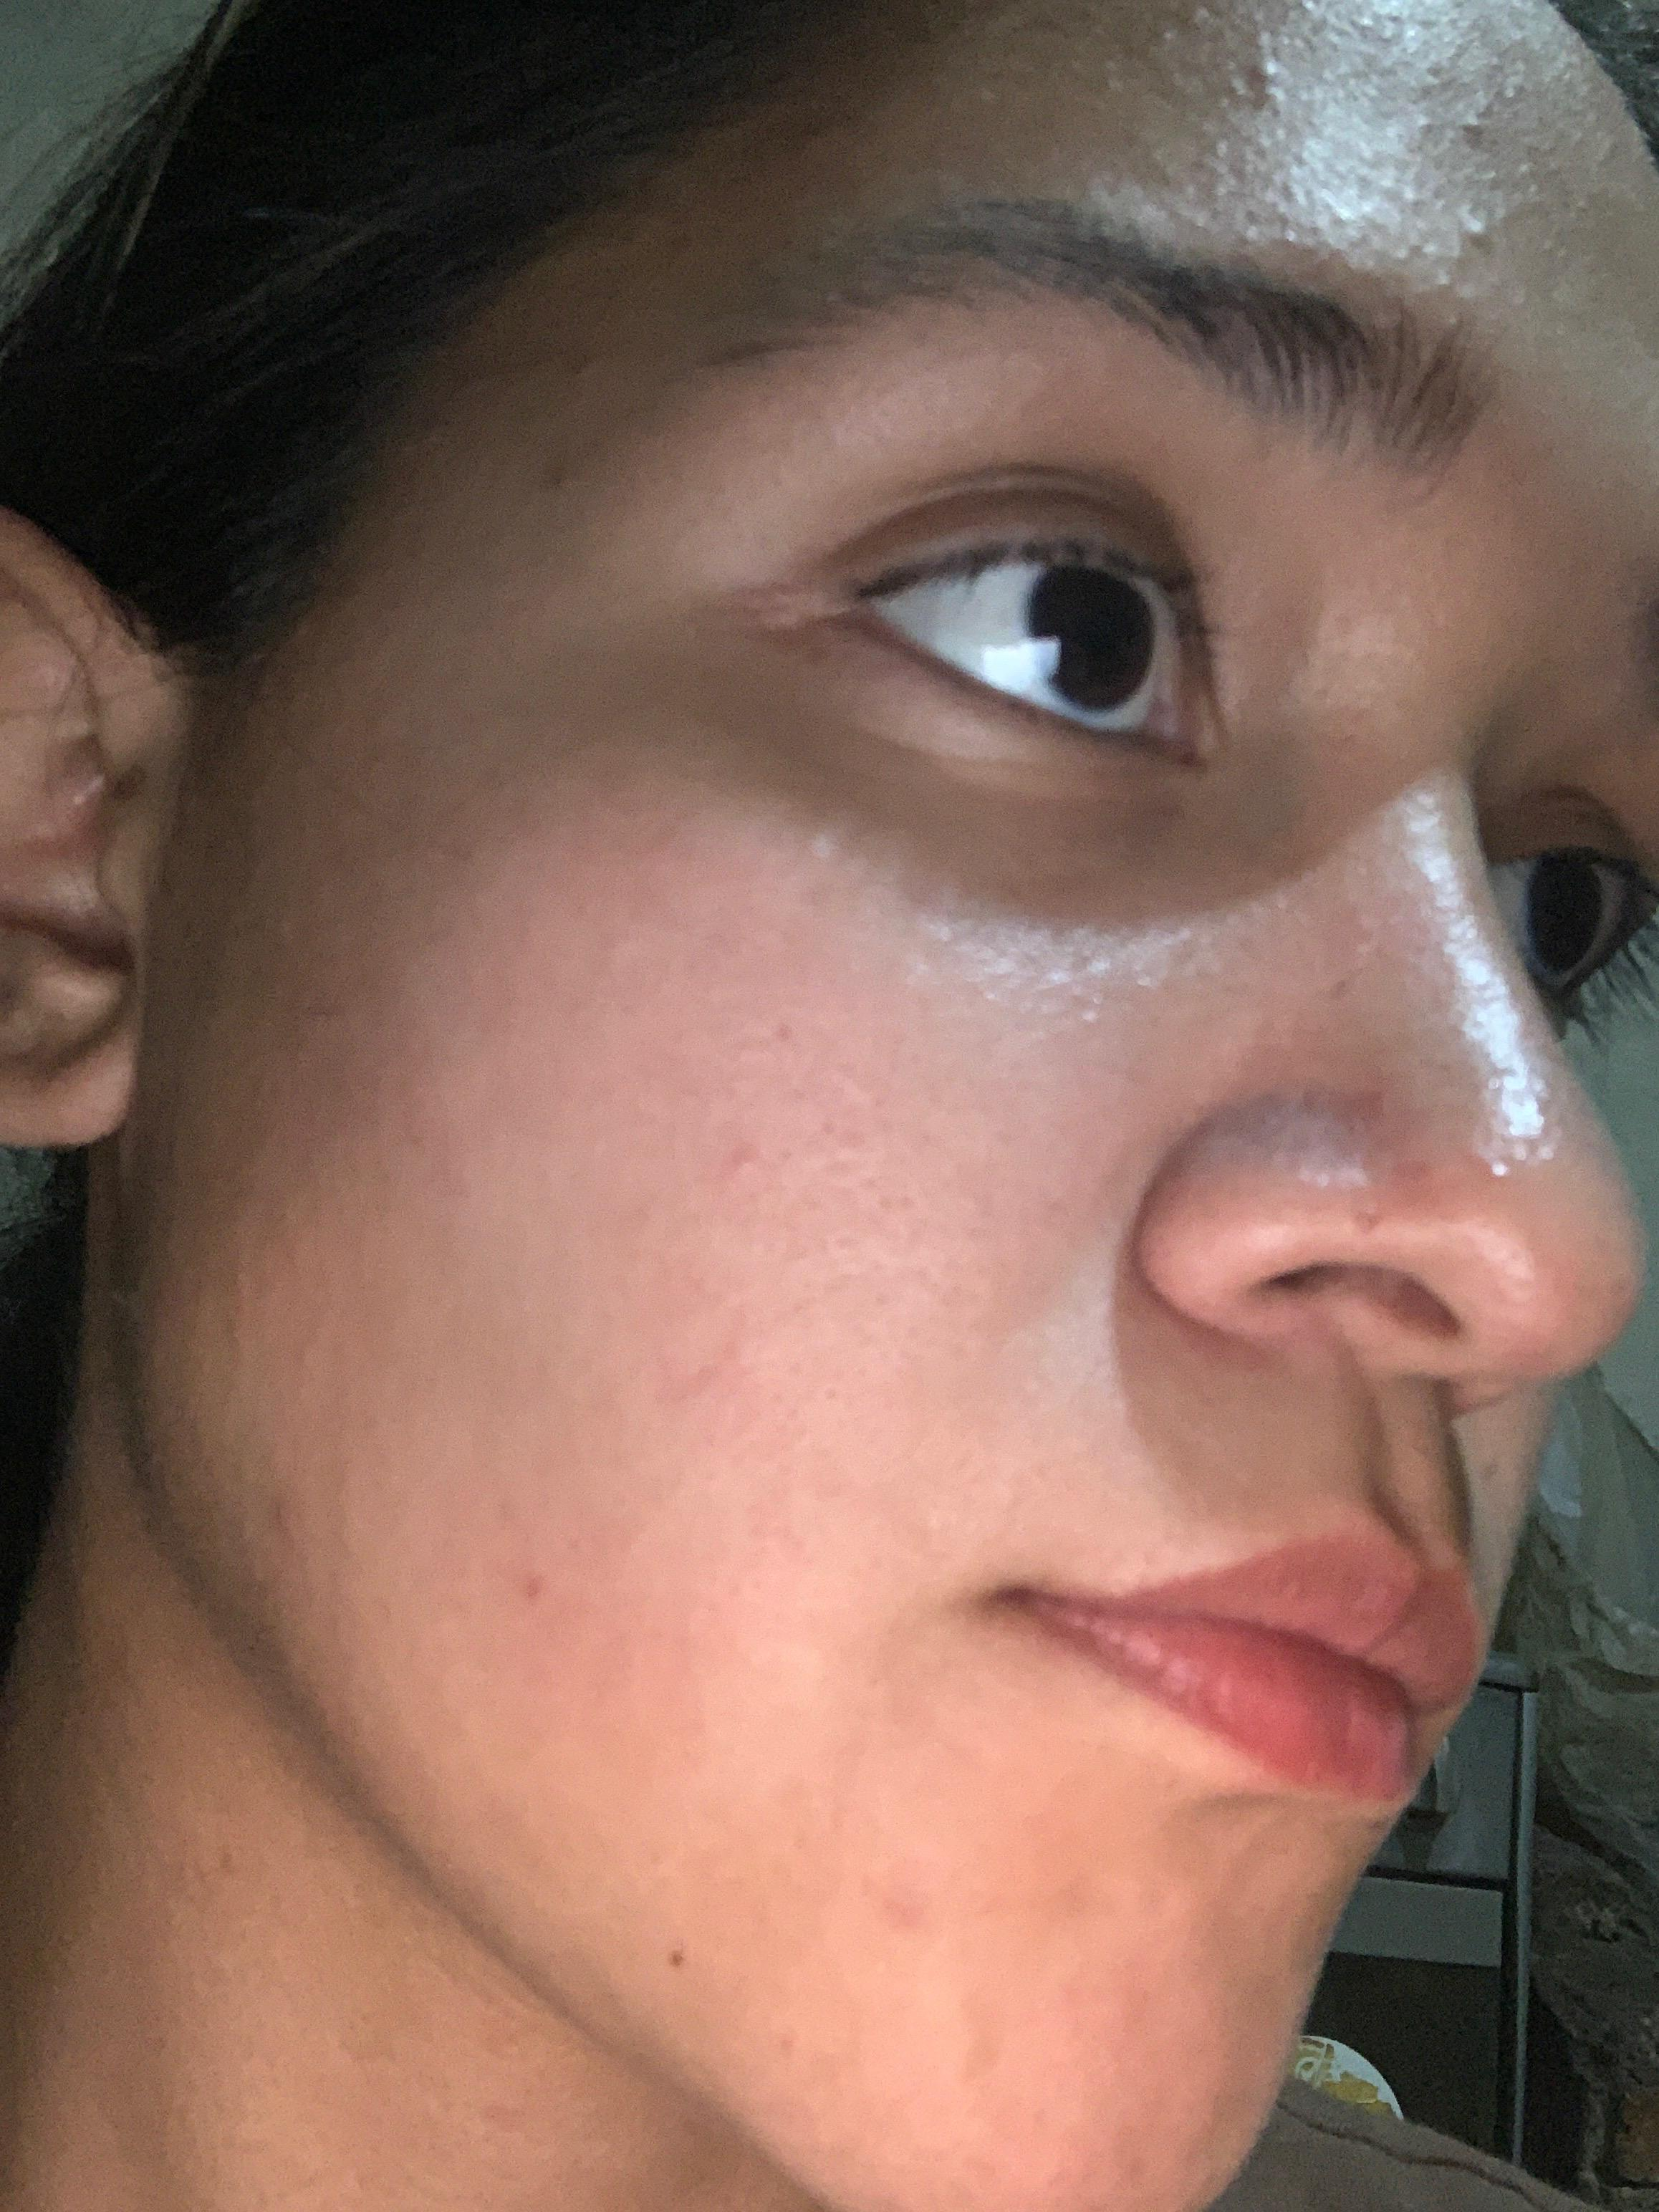Acne: (943, 2027, 1028, 2121), (856, 1865, 936, 1947), (1112, 2137, 1185, 2202), (1185, 2097, 1253, 2156), (1446, 192, 1509, 253), (1445, 110, 1511, 162), (260, 1498, 312, 1552), (1244, 57, 1293, 113), (1344, 1205, 1403, 1245), (559, 345, 617, 385), (763, 2012, 802, 2062), (1180, 0, 1218, 49), (528, 465, 573, 503), (507, 1566, 552, 1604), (1141, 23, 1180, 54)
Englarged-Pores: (753, 1089, 1021, 1463)
